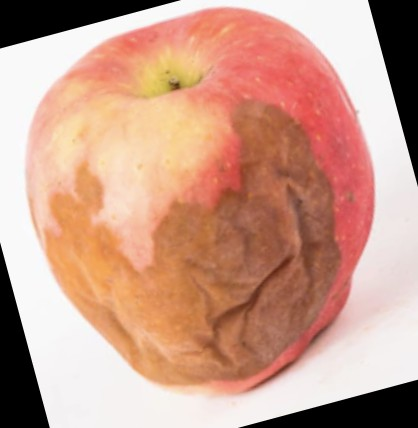rotten_apple: (26, 7, 374, 394)
